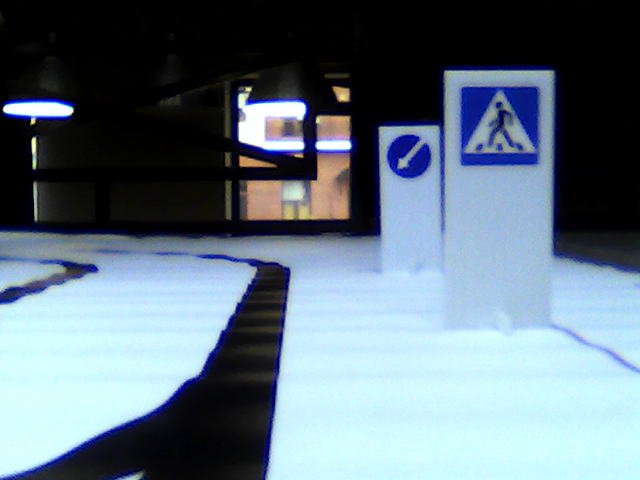pesh: (453, 85, 541, 169)
prep: (383, 134, 434, 178)
